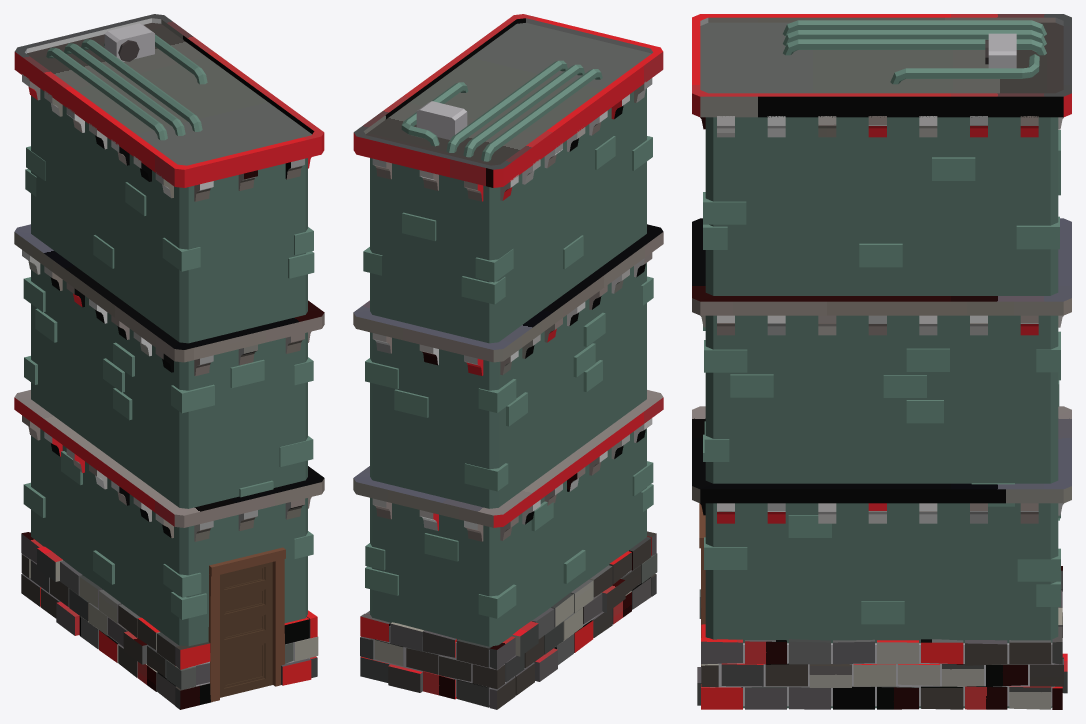
File: quaternius-ultimate-textured-building-3-story-slim-mat.glb
3 views of the same model, side by side, from view 1: azimuth 30°, elevation 25°; view 2: azimuth 150°, elevation 25°; view 3: azimuth 270°, elevation 25° (orthographic). The views are drawn at different scales.
Visible parts, largest first — view 1: 3Story_Slim_Mat; view 2: 3Story_Slim_Mat; view 3: 3Story_Slim_Mat.
Part boxes in pixels (x1,y1,x2,y2): 3Story_Slim_Mat: (14, 14, 324, 709); 3Story_Slim_Mat: (353, 14, 663, 709); 3Story_Slim_Mat: (692, 14, 1071, 709).
Bounding box in the file's own units: 1.12 × 3.99 × 2.15.
3 materials, 3 textured.
